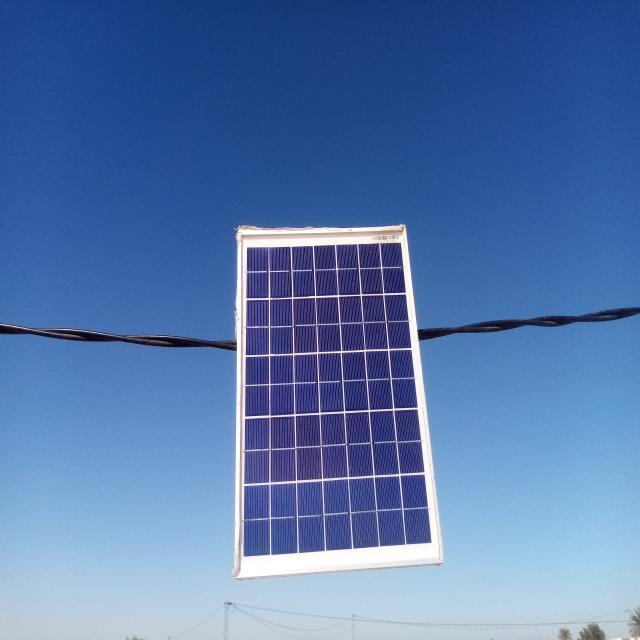no faulty: (240, 230, 442, 576)
